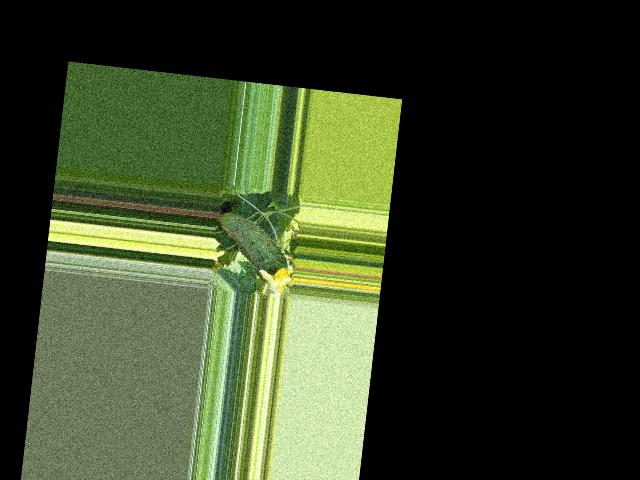cucumber: (209, 210, 293, 284)
